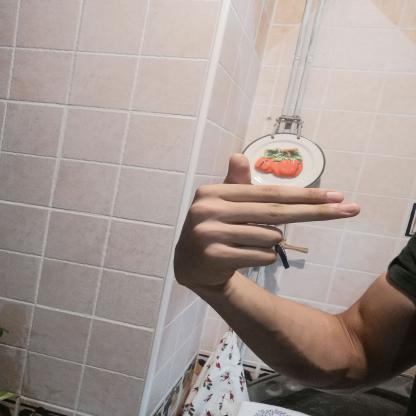GHAYN: (156, 142, 377, 296)
